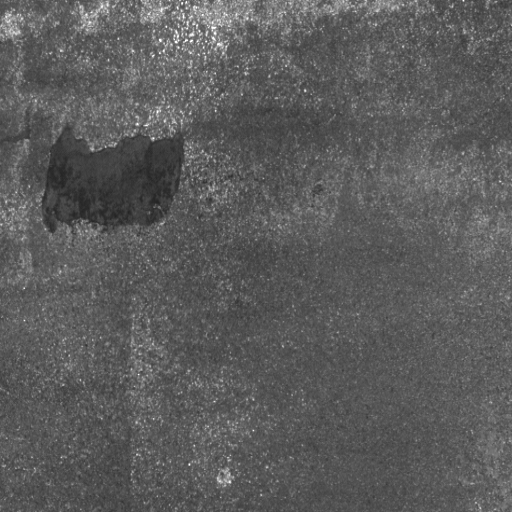aokeng: (42, 119, 188, 236)
